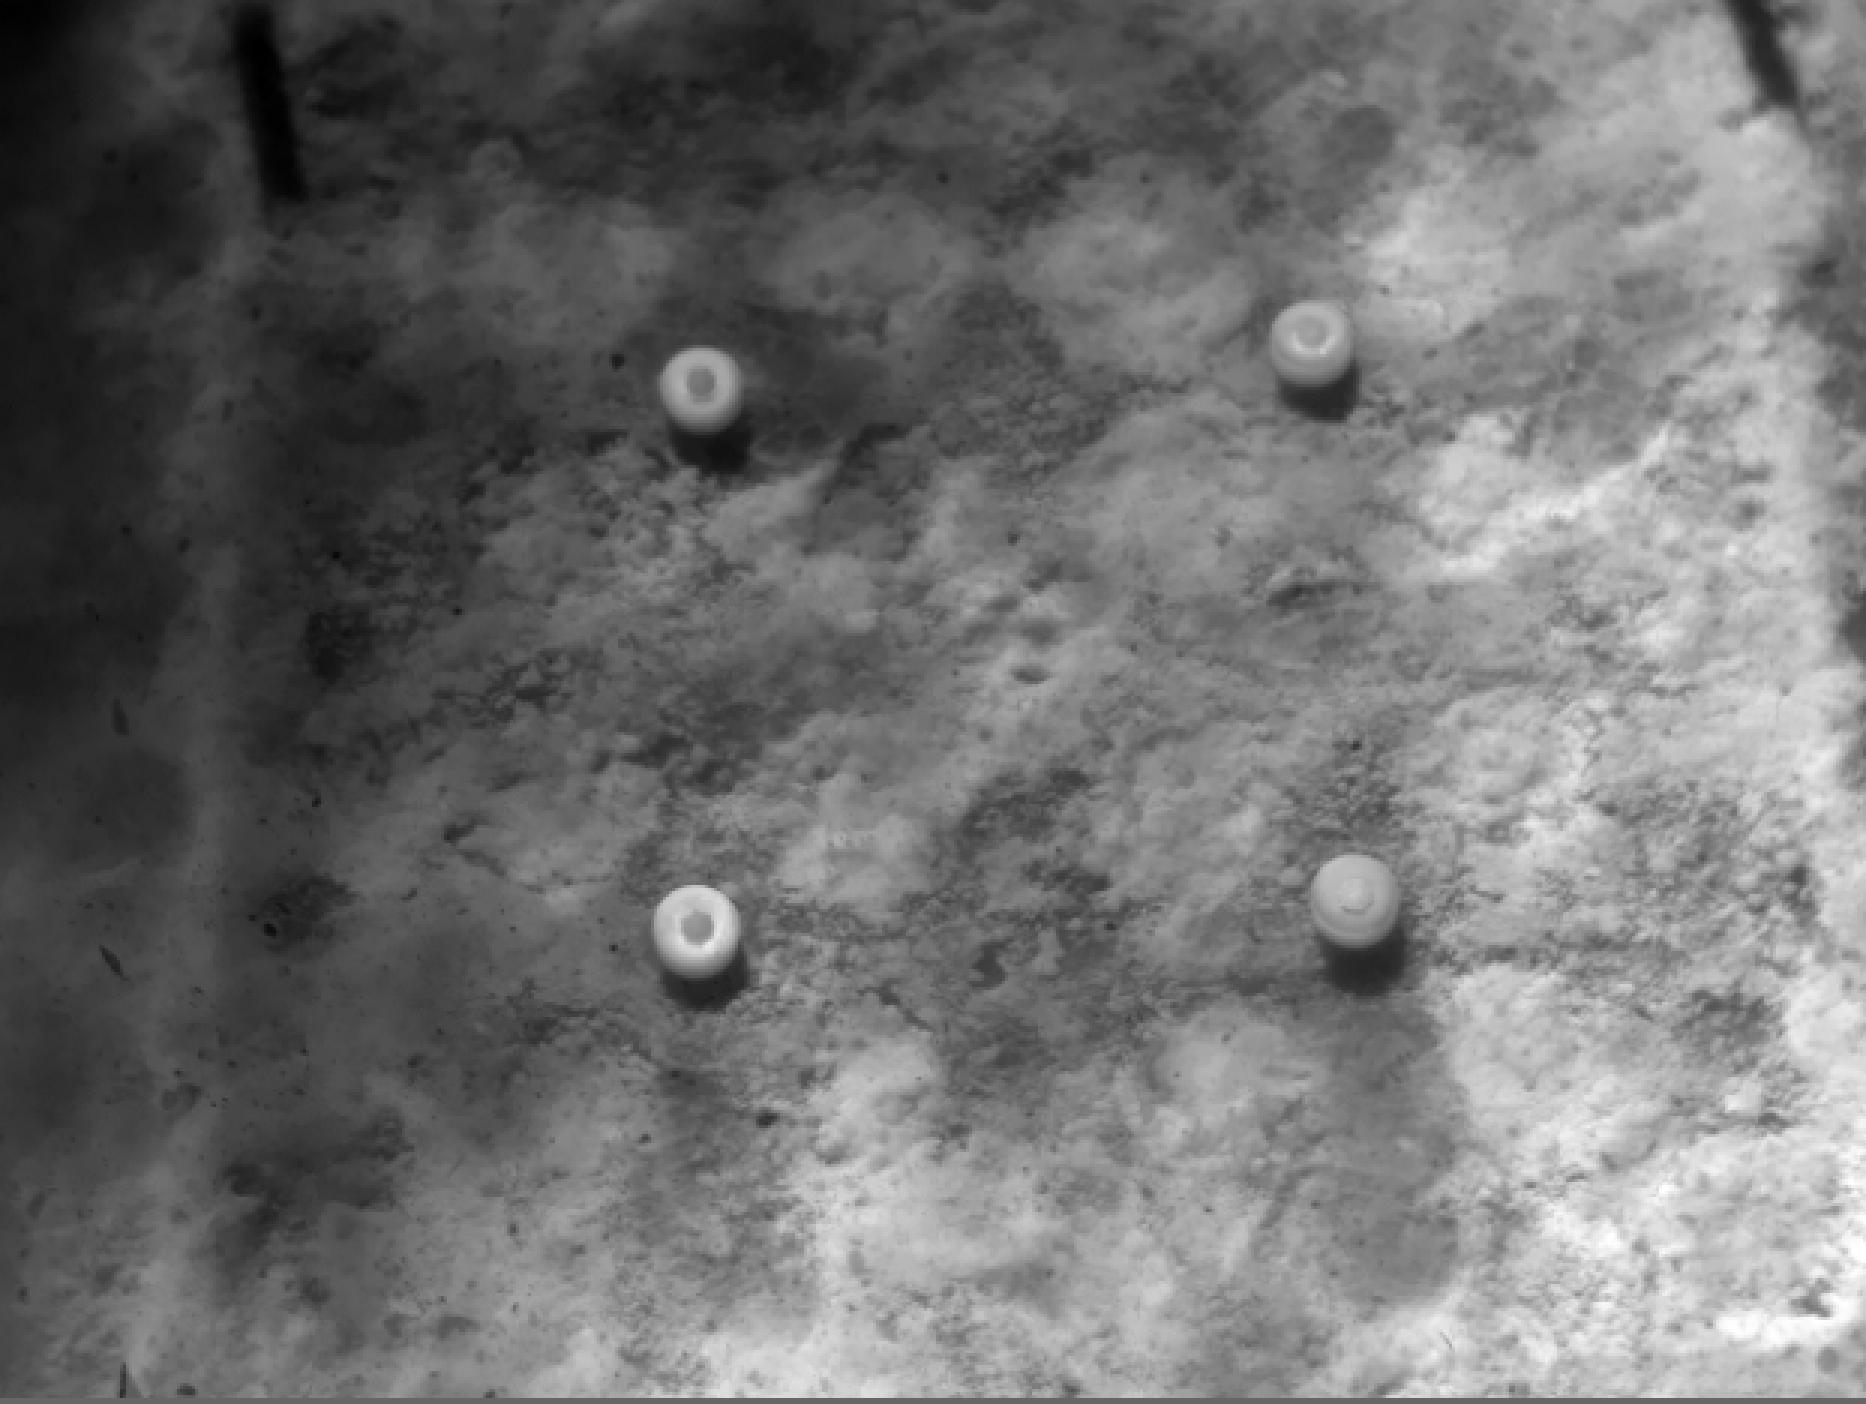mines-gjV8: (642, 882, 752, 970), (1308, 848, 1395, 944), (658, 352, 746, 432), (1274, 302, 1347, 392)
